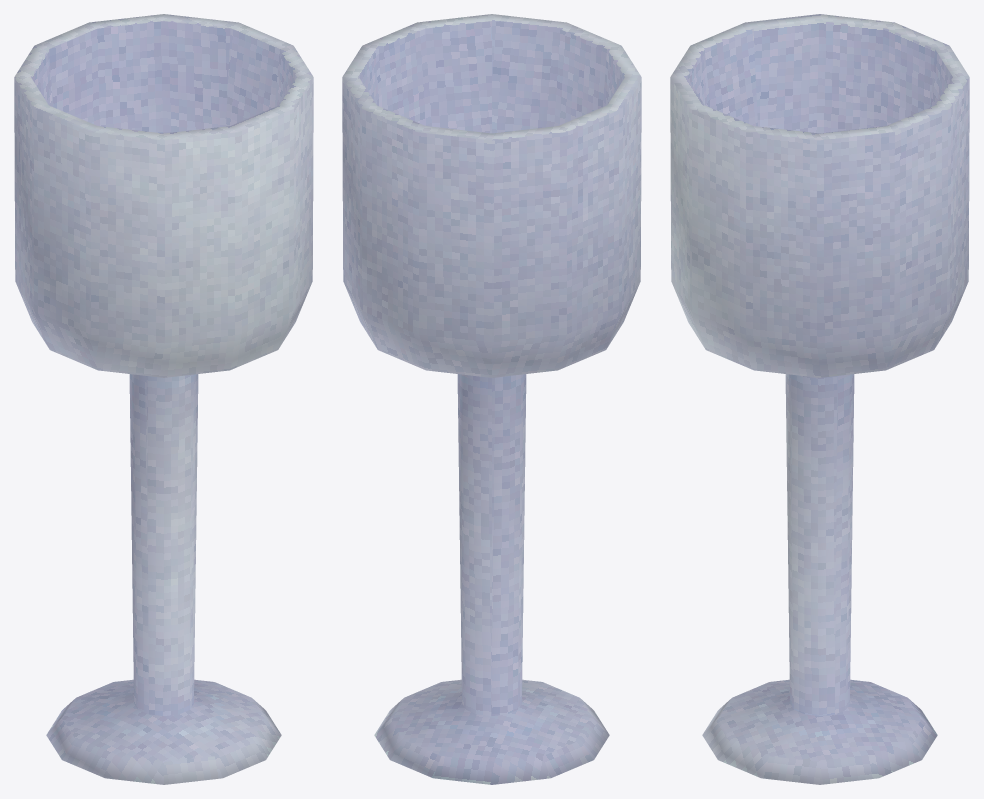
File: Glass_1.gltf
3 views of the same model, side by side, from view 1: azimuth 30°, elevation 25°; view 2: azimuth 150°, elevation 25°; view 3: azimuth 270°, elevation 25° (orthographic).
Visible parts, largest first — view 1: Glass_1; view 2: Glass_1; view 3: Glass_1.
Boxes of the visible parts, x1=… form: Glass_1: x1=14, y1=14, x2=313, y2=784; Glass_1: x1=342, y1=14, x2=641, y2=784; Glass_1: x1=670, y1=14, x2=969, y2=784.
Bounding box in the file's own units: 0.6531 × 1.58 × 0.6531.
1 material, 1 textured.
